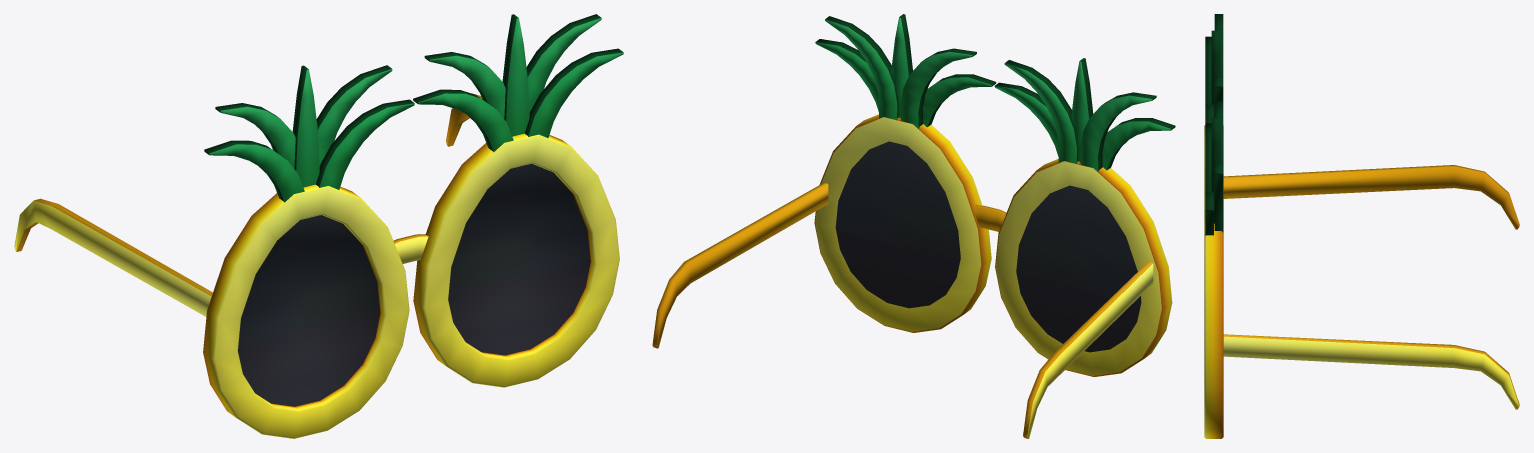
File: Gafas4.obj
3 renders of one model, left to right at view 1: azimuth 30°, elevation 25°; view 2: azimuth 150°, elevation 25°; view 3: azimuth 270°, elevation 25°, orthographic. The views are drawn at different scales.
Parts seen in each view (by area): view 1: Gafas4; view 2: Gafas4; view 3: Gafas4.
Boxes of the visible parts, x1,y1,x2,y2 form: Gafas4: (14, 14, 623, 438); Gafas4: (652, 14, 1175, 438); Gafas4: (1204, 14, 1519, 438).
Size of the model in its own units: 2.62 by 2.07 by 1.9.
1 material, 1 textured.
